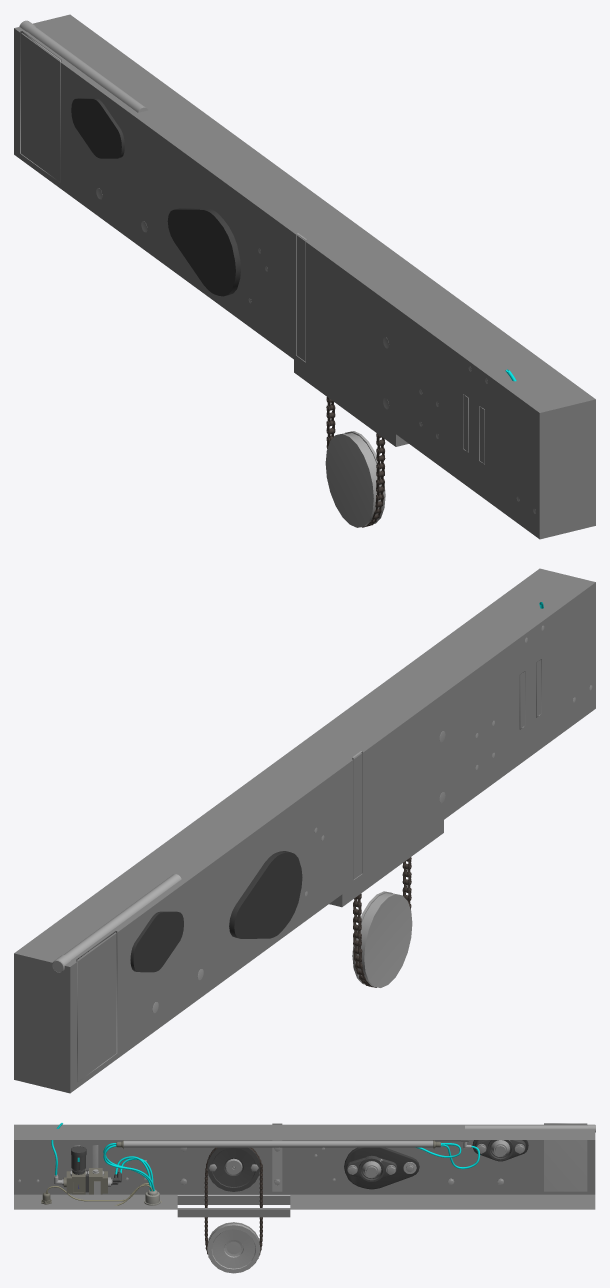
Rendered from take_off.fbx.
The picture shows the model from 3 angles, top to bottom: view 1: azimuth 30°, elevation 25°; view 2: azimuth 150°, elevation 25°; view 3: azimuth 270°, elevation 25°; orthographic projection. The views are drawn at different scales.
Visible parts, largest first — view 1: FDFRERGHJHJKLJ; view 2: FDFRERGHJHJKLJ; view 3: FDFRERGHJHJKLJ.
Part boxes in pixels (x1=…): FDFRERGHJHJKLJ: x1=14, y1=14, x2=595, y2=539; FDFRERGHJHJKLJ: x1=14, y1=568, x2=595, y2=1093; FDFRERGHJHJKLJ: x1=14, y1=1123, x2=595, y2=1273.
Size of the model in its own units: 10.6 by 44.3 by 158.
